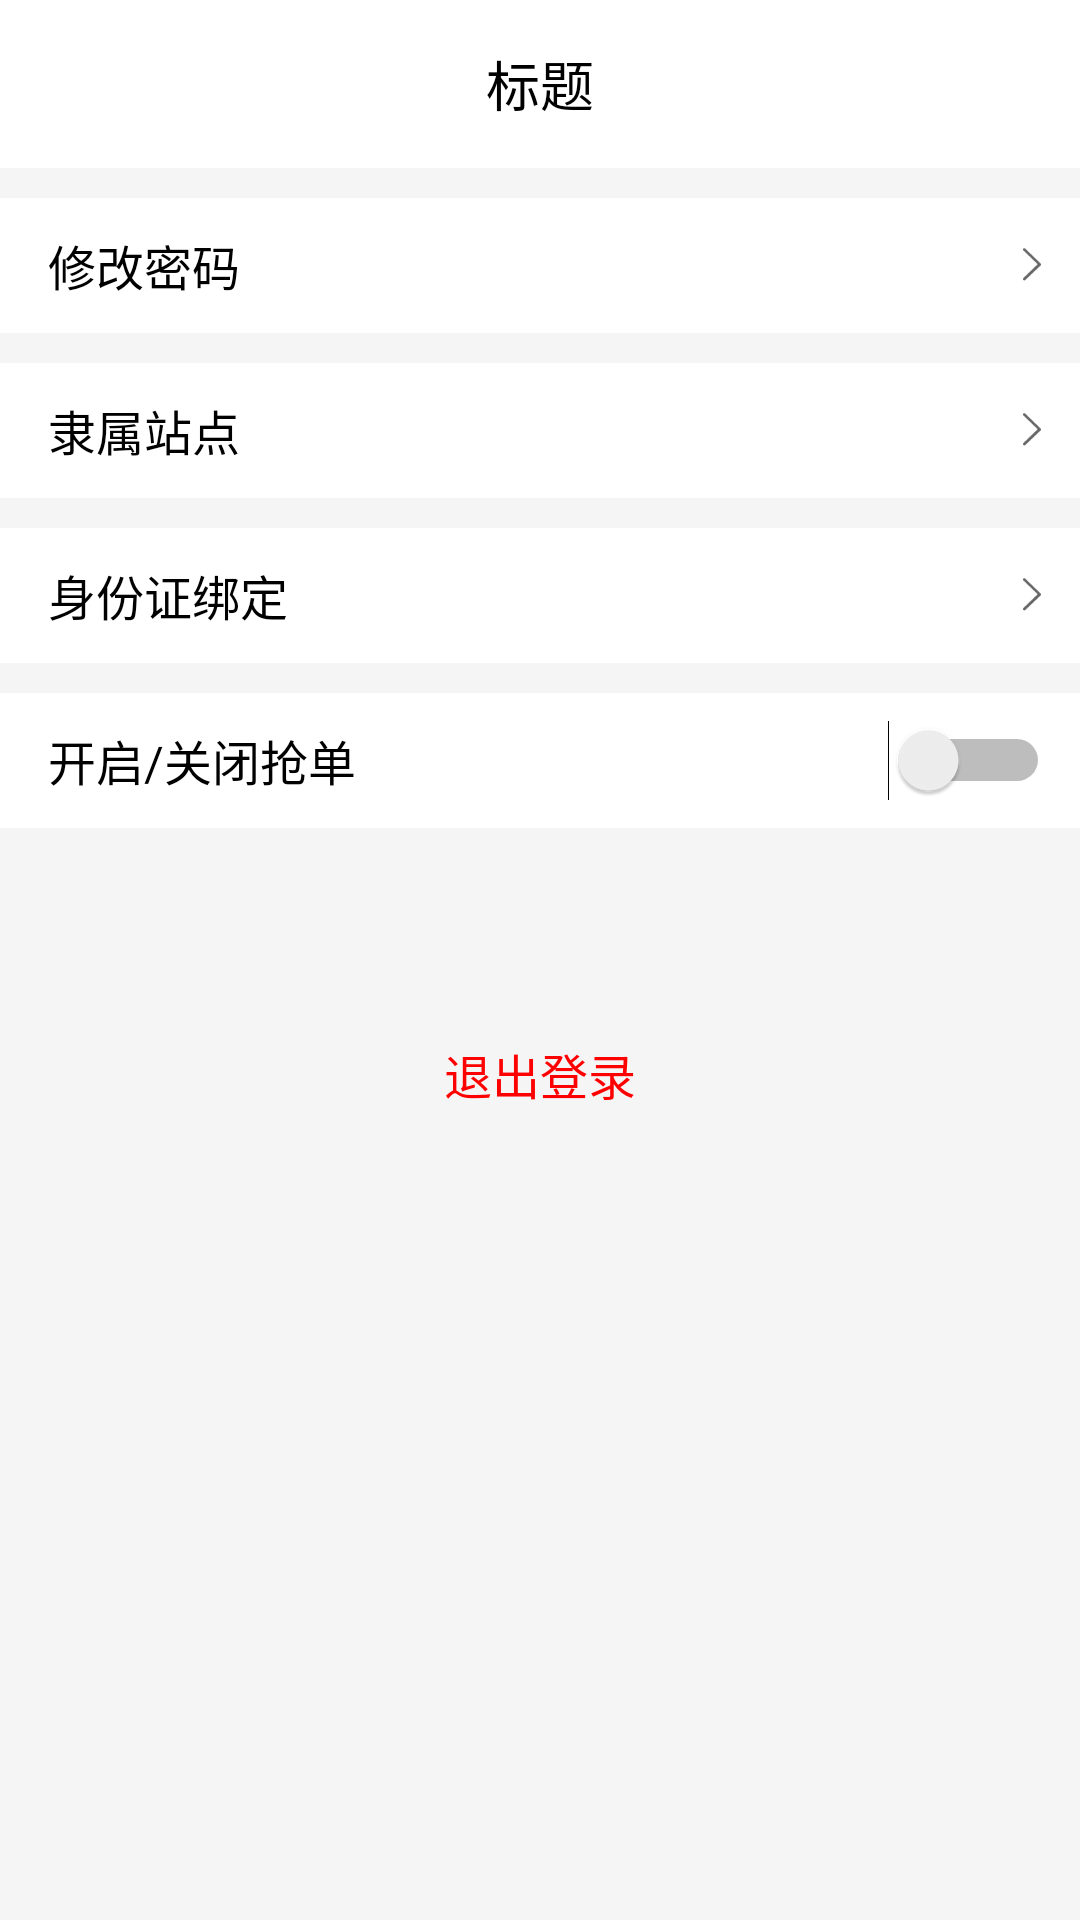

Icons on this 1080x1920 Android screen, each with its box as (x1, y1, x2, y2):
right: (1023, 248, 1041, 281), (1023, 413, 1041, 446), (1023, 578, 1041, 611)
